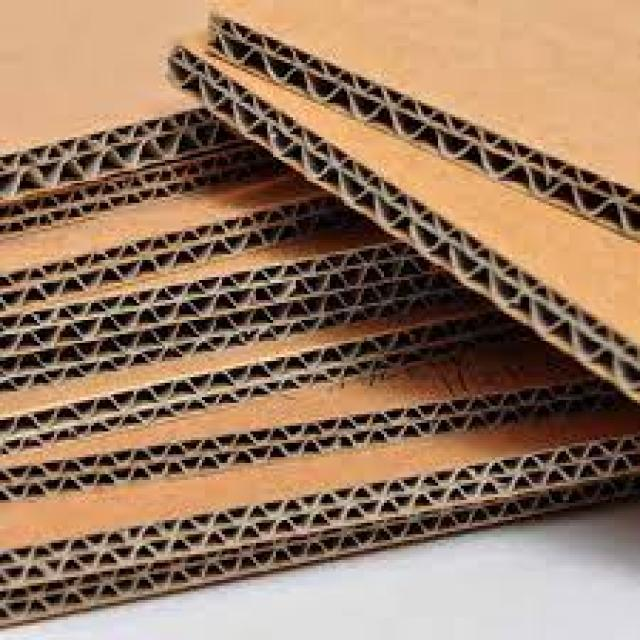cardboard: (162, 31, 637, 400), (0, 406, 637, 623), (0, 329, 620, 506), (205, 0, 637, 243), (0, 302, 543, 457), (0, 269, 492, 392), (0, 217, 427, 349), (0, 0, 261, 194), (0, 166, 350, 309), (0, 143, 273, 240)
